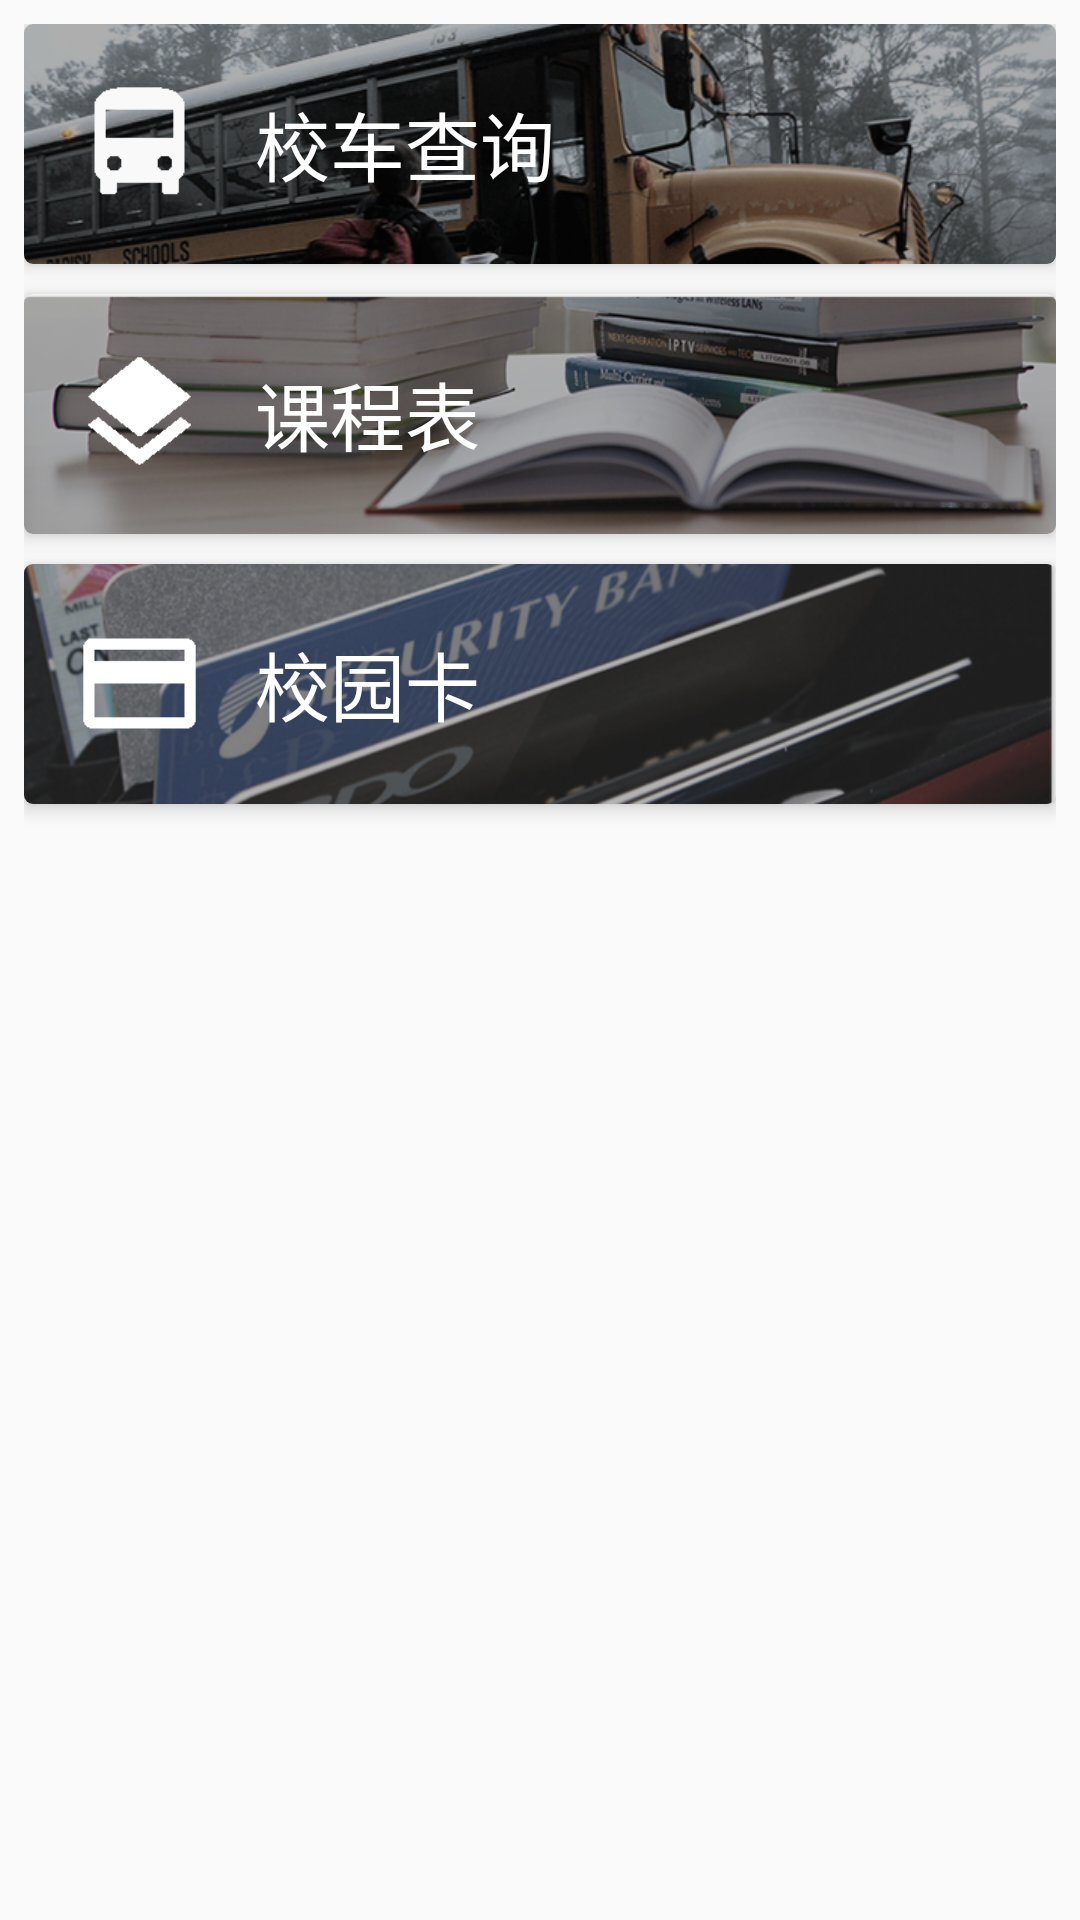

Point at icon controls on the screen. Image size 1080px×1920px, points as (x,y).
class: (139,413)
credit: (139,683)
